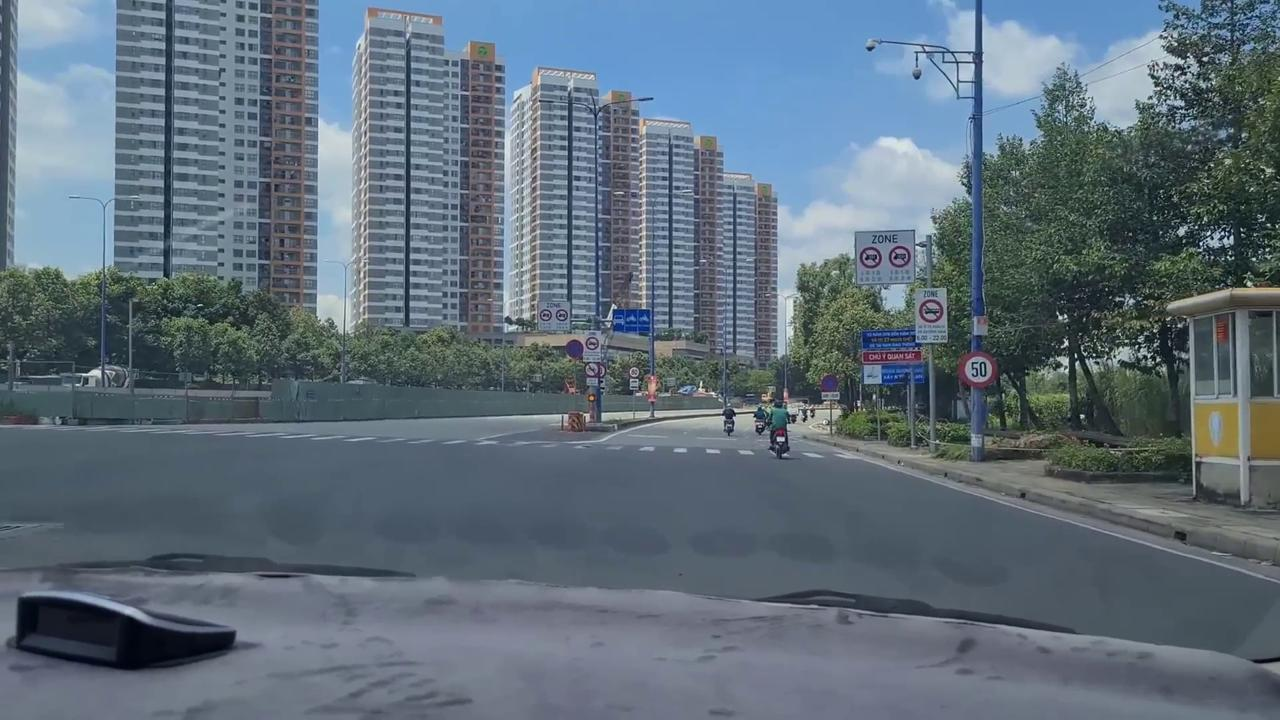Biển phụ: (630, 378, 638, 391)
Cấm cac phương tiện hoạt động trong khung giờ cố định: (852, 229, 916, 286), (914, 287, 950, 344), (536, 300, 572, 332), (584, 329, 602, 362)
Cấm dừng - Cấm đỗ: (564, 338, 584, 359), (820, 373, 840, 392)
Cấm xe máy: (583, 362, 600, 376)
Giới hạn tốc độ 50Km/h: (955, 350, 997, 388)
Giới hạn tốc độ 80Km/h: (628, 365, 641, 378)
Khác: (860, 328, 926, 387)
Làn đường cho từng xe: (611, 307, 652, 335)
